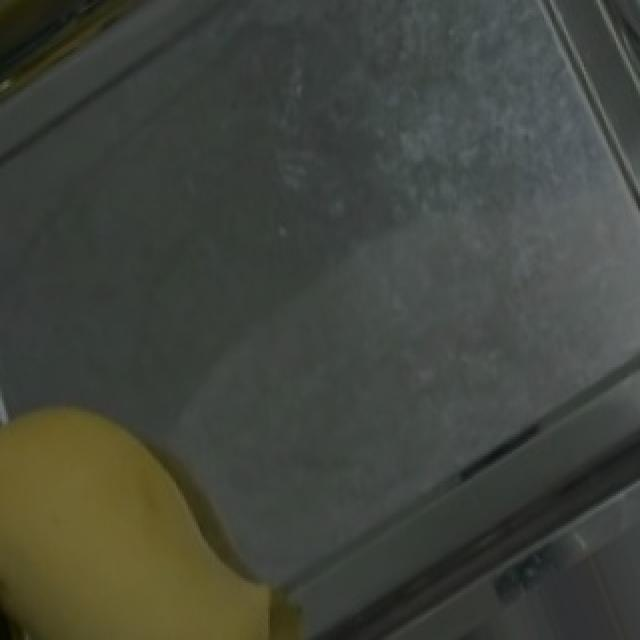fruit: (0, 364, 298, 640)
